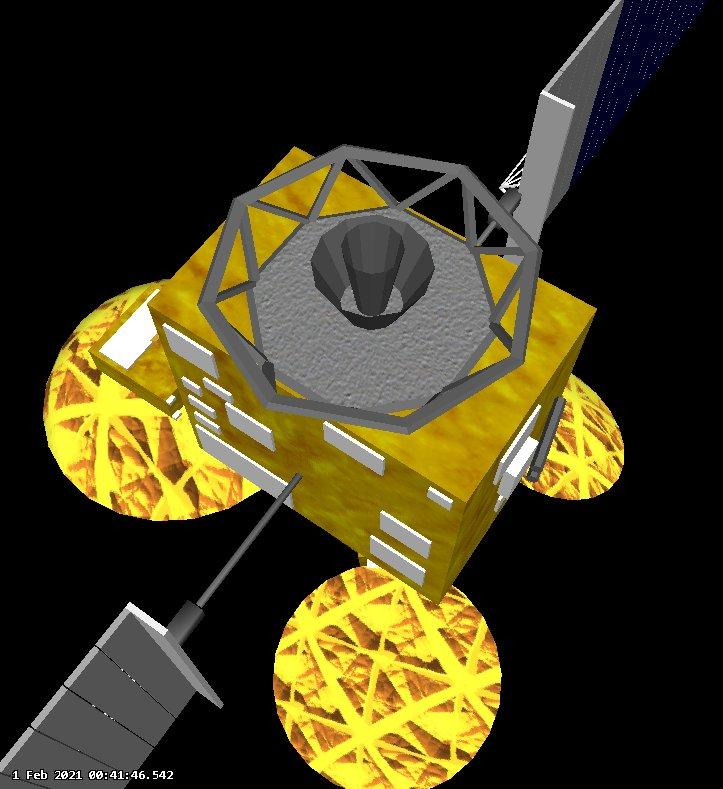body: (145, 143, 600, 608)
solar: (502, 0, 714, 272), (0, 596, 226, 789)
thruster: (40, 275, 263, 524), (271, 562, 505, 789), (511, 369, 626, 503), (340, 220, 406, 321)
